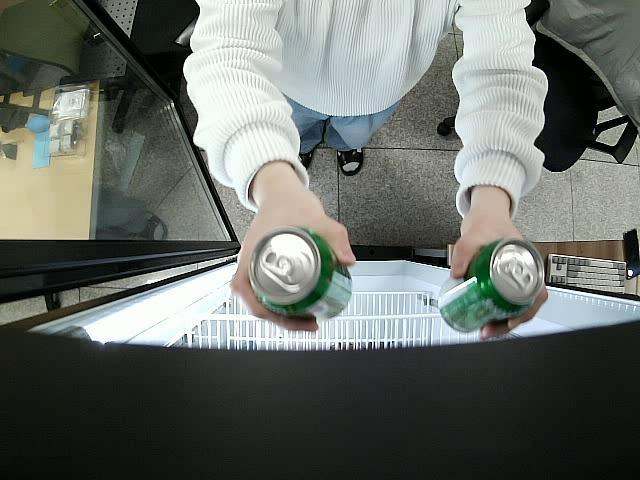12_chilsungCider: (246, 227, 354, 323), (438, 240, 544, 334)
